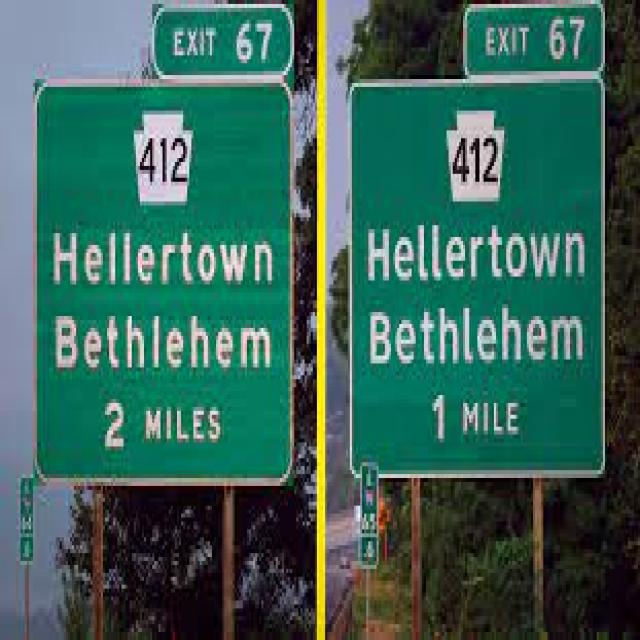street-signs: (34, 76, 294, 486), (348, 75, 608, 481), (462, 1, 606, 77), (152, 4, 297, 79), (360, 463, 379, 569), (18, 471, 37, 569)
